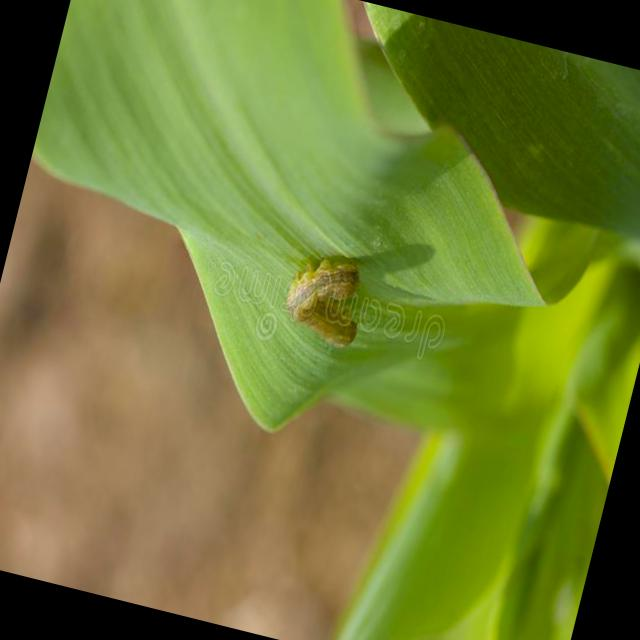pest: (278, 255, 366, 360)
